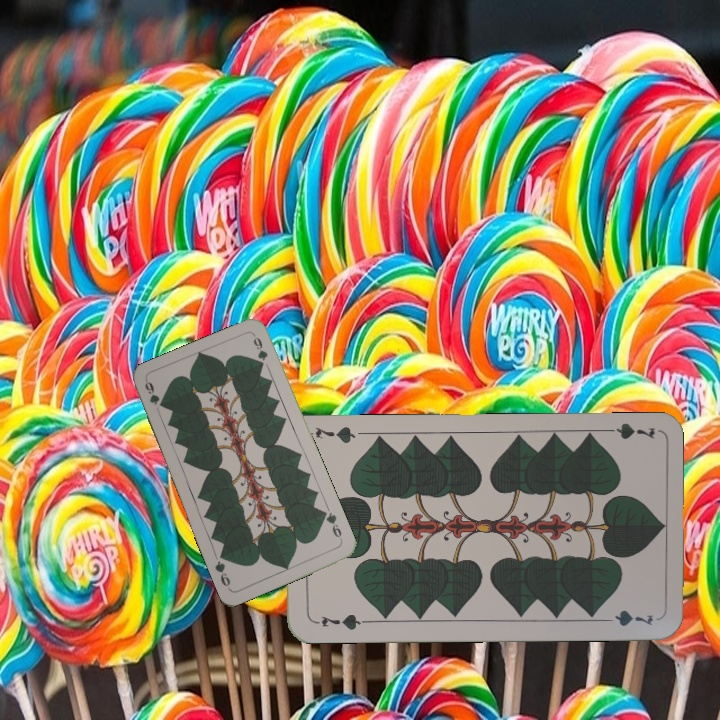G7: (309, 611, 368, 633), (598, 419, 657, 441)
G9: (319, 507, 345, 544), (141, 377, 161, 408)
